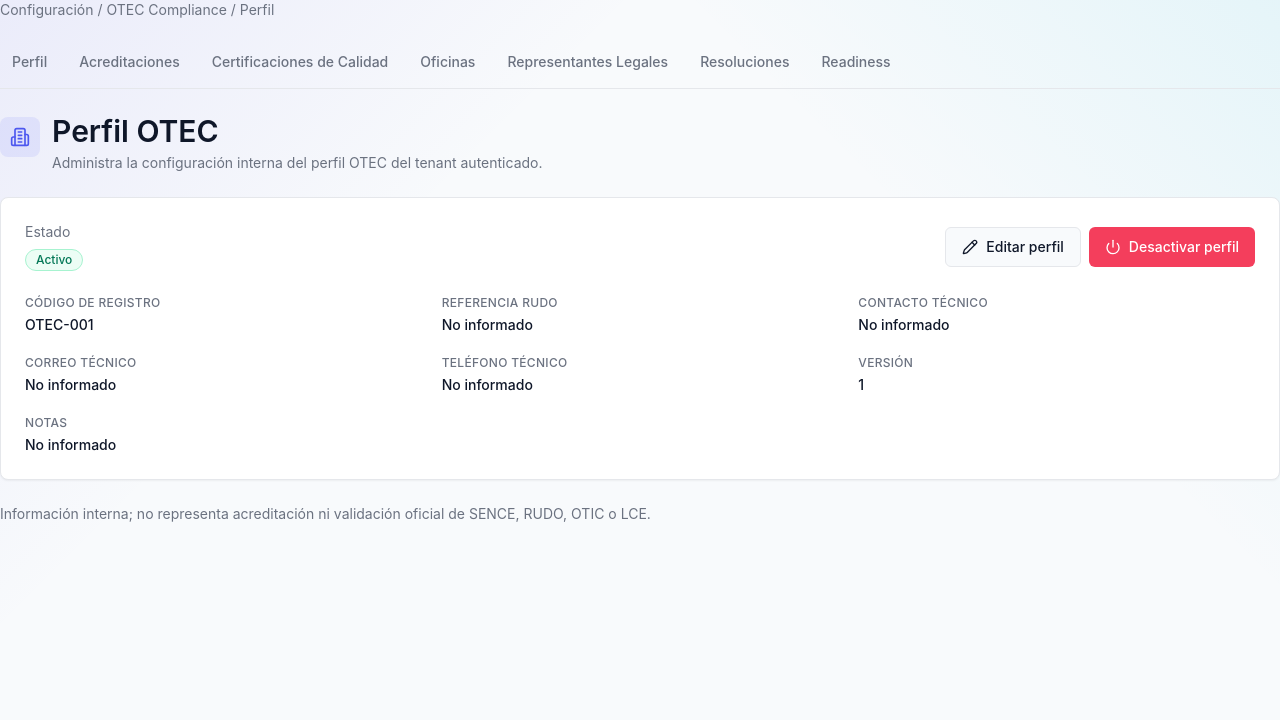
Scenario: OtecProfile page › requires confirmation before deactivation
This screenshot has width=1280, height=720.
Step 1. Click the button "Desactivar perfil" → (1172, 246), box [1089,226,1255,266]
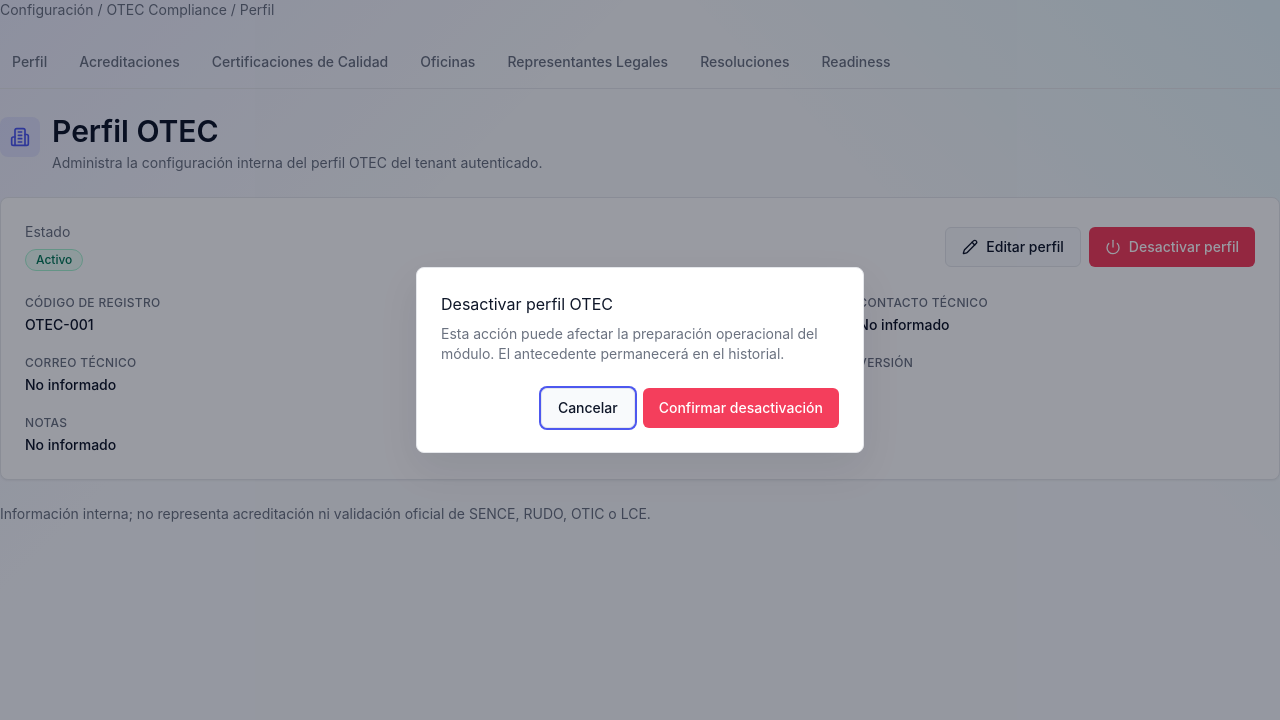
expect the dialog shows "puede afectar la preparación operacional": met, box [441,325,818,362]
